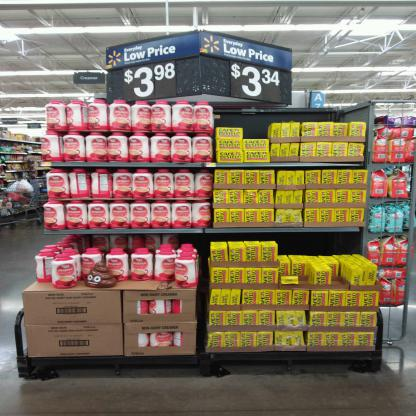Void: (277, 233, 360, 254), (246, 123, 264, 138)
